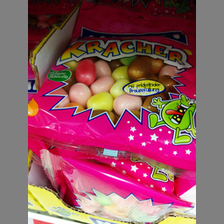candy: (31, 2, 194, 171)
